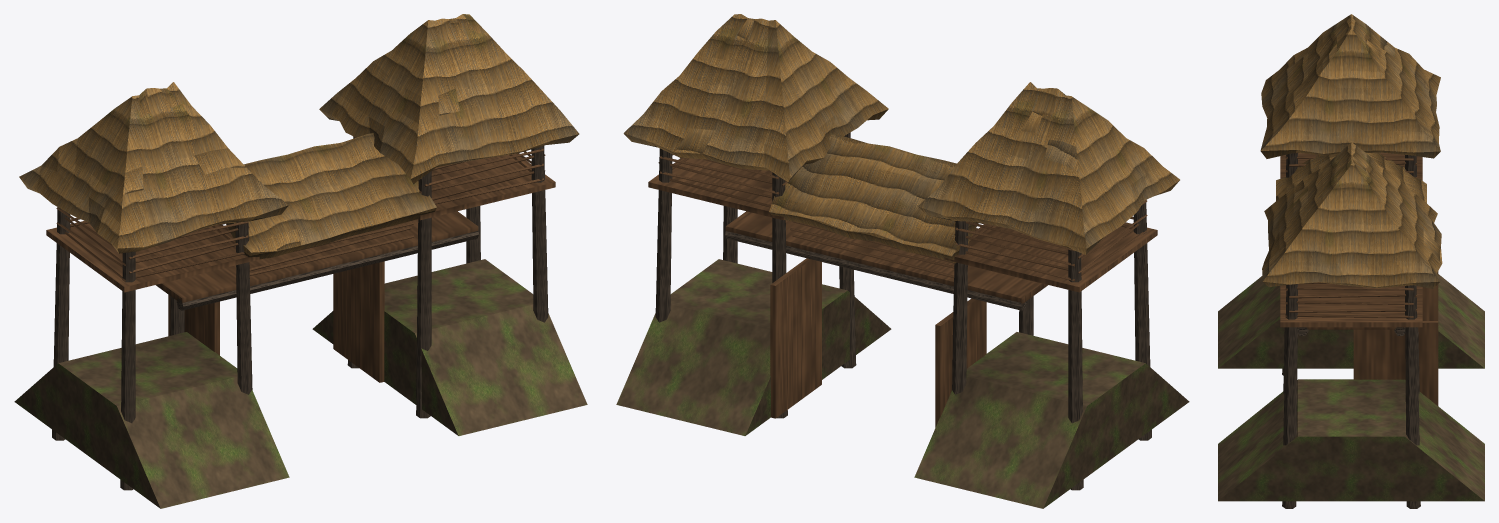
Rendered from recinto_porta.glb.
3 renders of one model, left to right at view 1: azimuth 30°, elevation 25°; view 2: azimuth 150°, elevation 25°; view 3: azimuth 270°, elevation 25°, orthographic. The views are drawn at different scales.
Visible parts, largest first — view 1: recinto_porta; view 2: recinto_porta; view 3: recinto_porta.
Boxes of the visible parts, <box> form: recinto_porta: <box>14,14,587,508</box>; recinto_porta: <box>616,14,1189,508</box>; recinto_porta: <box>1218,14,1484,508</box>.
Bounding box in the file's own units: 11.02 × 8.18 × 6.
4 materials, 4 textured.
